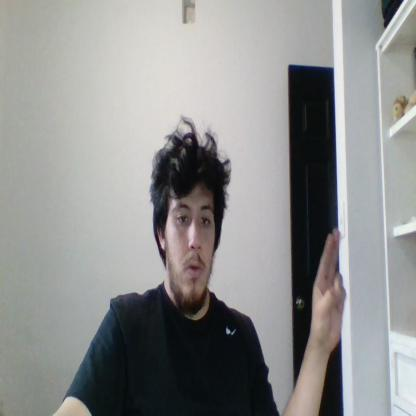U: (312, 228, 346, 350)
